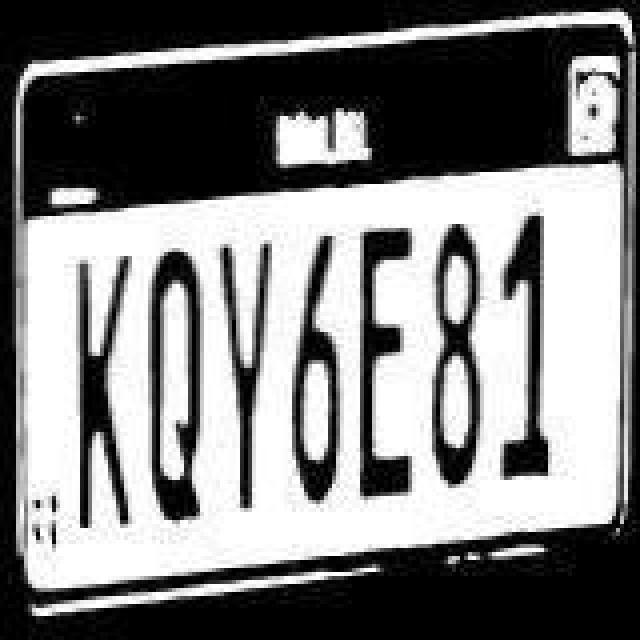1: (496, 206, 556, 498)
6: (288, 222, 348, 514)
8: (428, 212, 488, 500)
E: (354, 214, 418, 506)
K: (70, 244, 134, 532)
Q: (140, 236, 208, 532)
Y: (214, 228, 278, 516)
